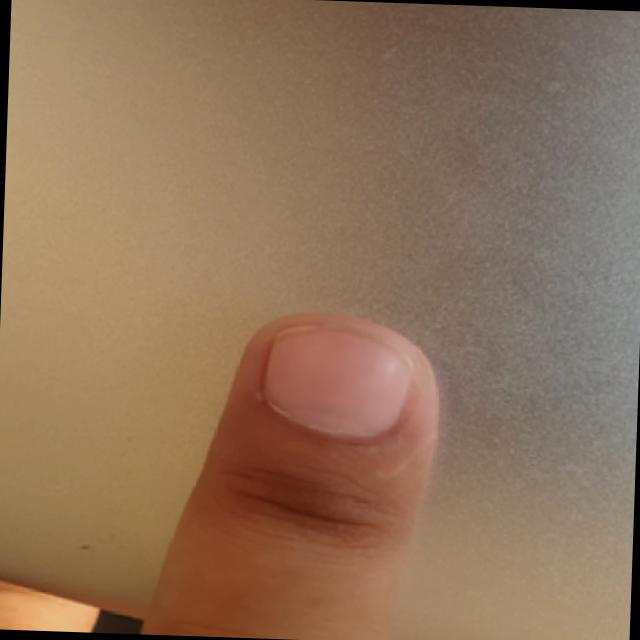Nail: (263, 326, 412, 433)
